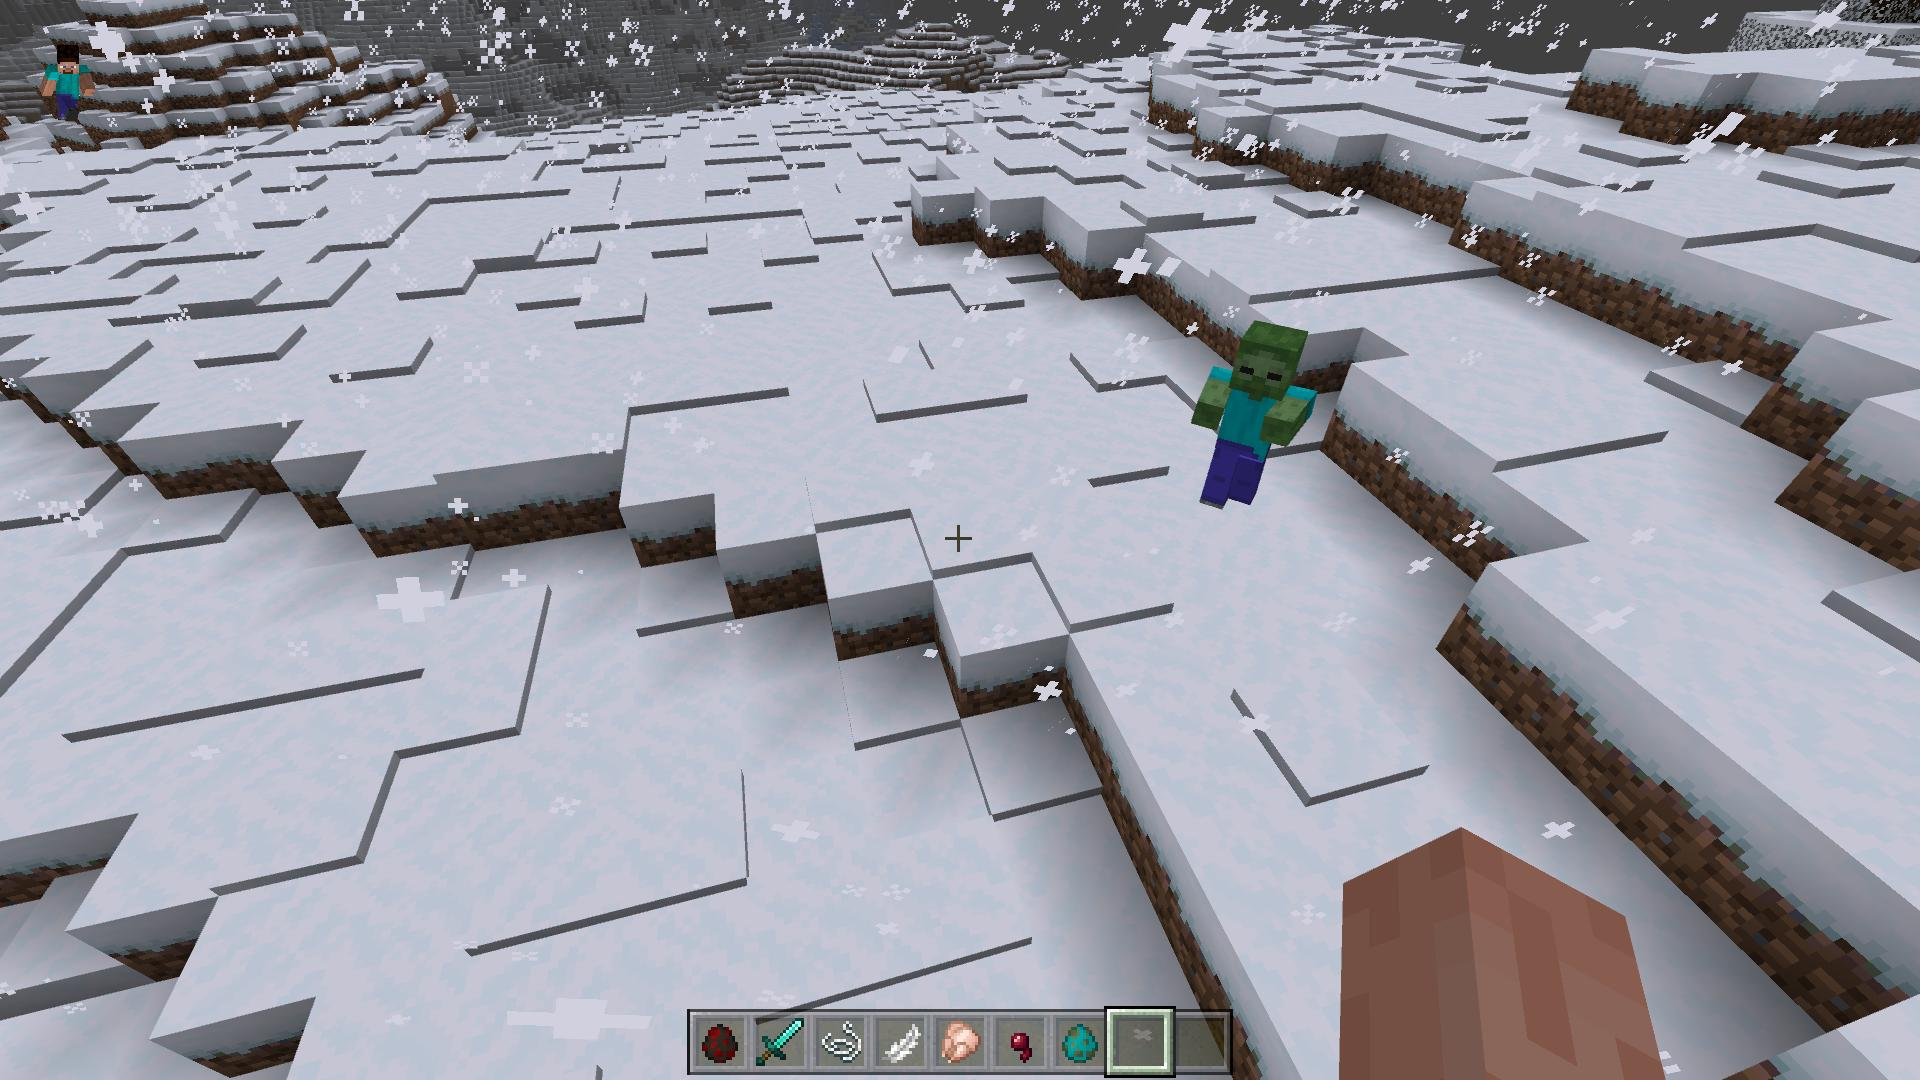zombie: (1188, 315, 1315, 517)
